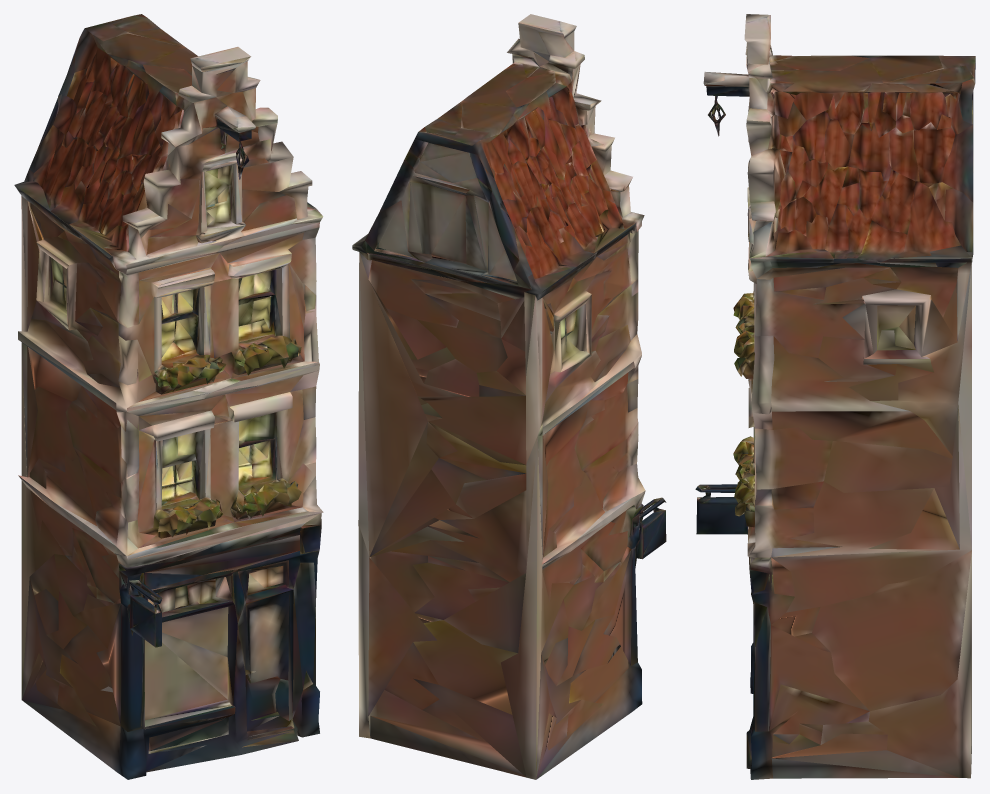
Rendered from getkong-haus19.glb.
3 renders of one model, left to right at view 1: azimuth 30°, elevation 25°; view 2: azimuth 150°, elevation 25°; view 3: azimuth 270°, elevation 25°, orthographic. The views are drawn at different scales.
Parts seen in each view (by area): view 1: output_unwrapped; view 2: output_unwrapped; view 3: output_unwrapped.
Boxes of the visible parts, <box> form: output_unwrapped: <box>14,14,323,779</box>; output_unwrapped: <box>352,14,666,779</box>; output_unwrapped: <box>695,14,975,779</box>.
Size of the model in its own units: 0.5792 by 1.9 by 0.6846.
Materials: 1 (1 with a texture image).
